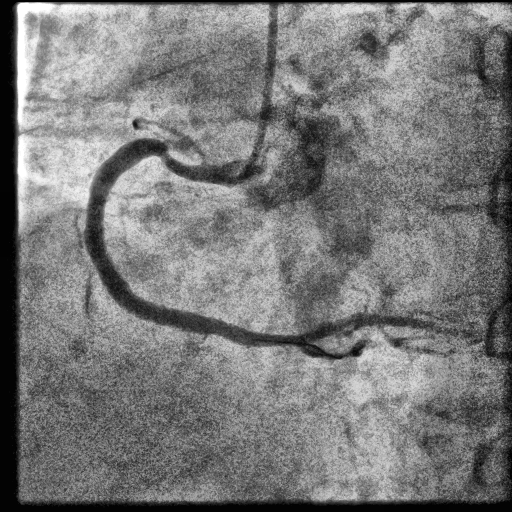pborca: (303, 313, 471, 341)
pda: (298, 334, 435, 360)
rca: (84, 140, 311, 349)
